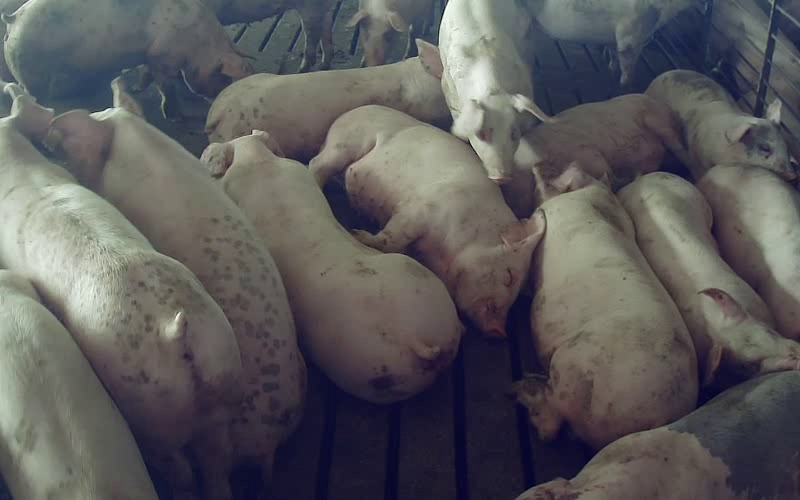pig: (45, 81, 305, 480), (0, 86, 241, 497), (202, 131, 461, 402), (309, 106, 543, 335), (516, 163, 697, 448), (618, 172, 799, 391), (517, 371, 799, 499), (206, 39, 449, 161), (3, 0, 252, 118), (501, 94, 685, 216), (439, 0, 544, 183), (697, 165, 799, 338), (645, 71, 794, 179)
